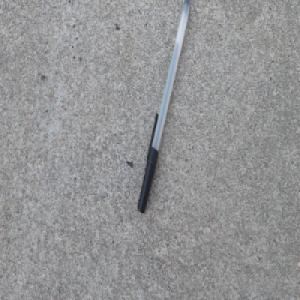Pen: (136, 0, 191, 216)
